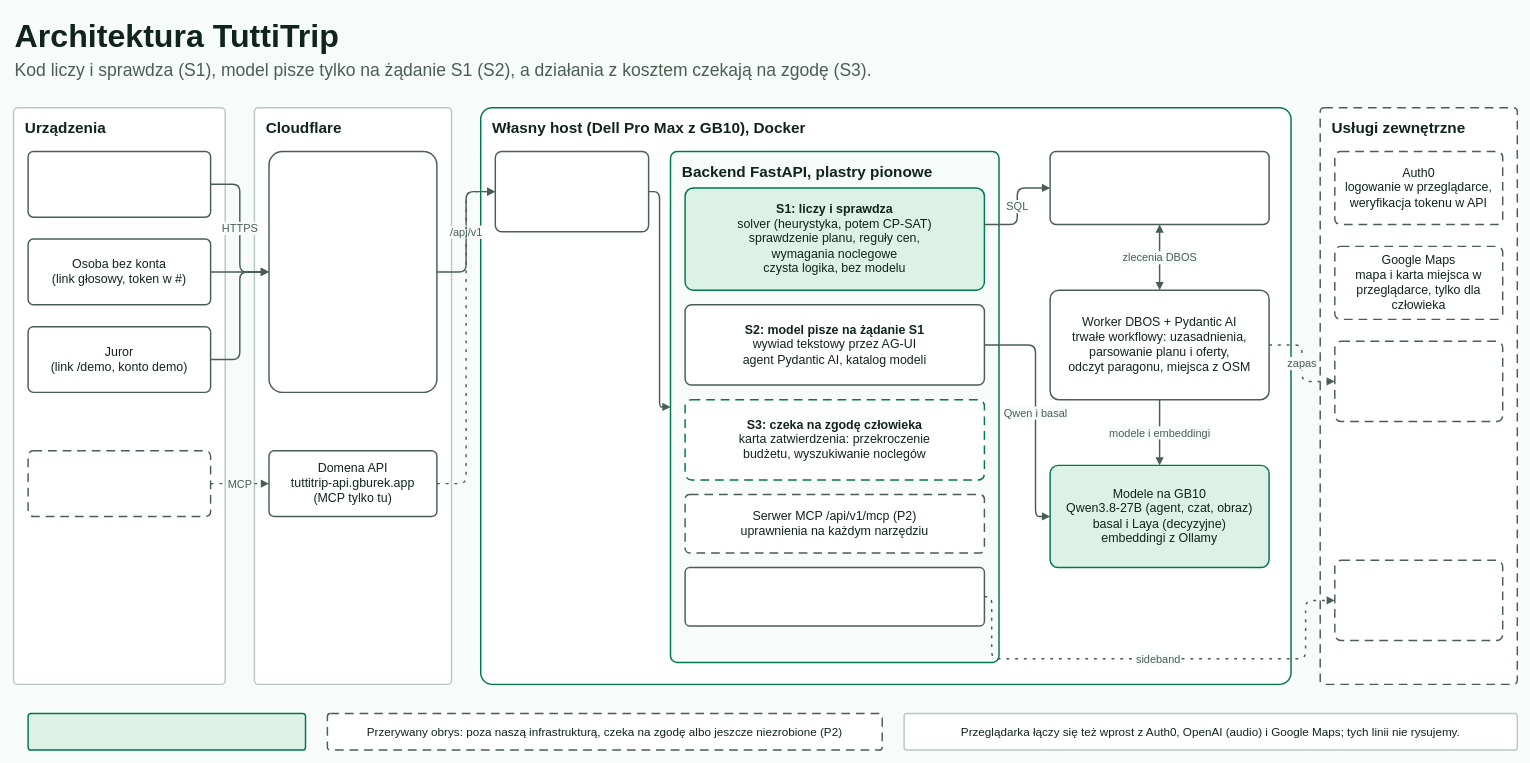
Image size: 1530x763. Some labels were removed from this diagram. The shapes that lost their labels are listed below. From the top down, each one's centre as x and y in pixels, then its label:
point 119,184: Przeglądarka i PWA (host i członkowie)
point 571,191: Gateway nginx /api/v1; ścieżki wewnętrzne = 404
point 1159,187: PostgreSQL 18 + pgvector dane aplikacji, kolejki i stan DBOS
point 352,271: Worker frontendu PWA, statyczne zasoby i proxy /api/* tuttitrip.gburek.app
point 1418,381: OpenRouter zapas modeli i JEV dla backendu i workera
point 119,483: Klient MCP (P2) Claude, ChatGPT, Claude Code
point 834,596: Wywiad głosowy: sideband WebRTC narzędzia i historia na serwerze
point 1418,600: OpenAI Realtime, mowa gpt-realtime-2.1-mini audio wprost z przeglądarki
point 166,731: Zielone tło: liczy kod albo działa lokalnie
